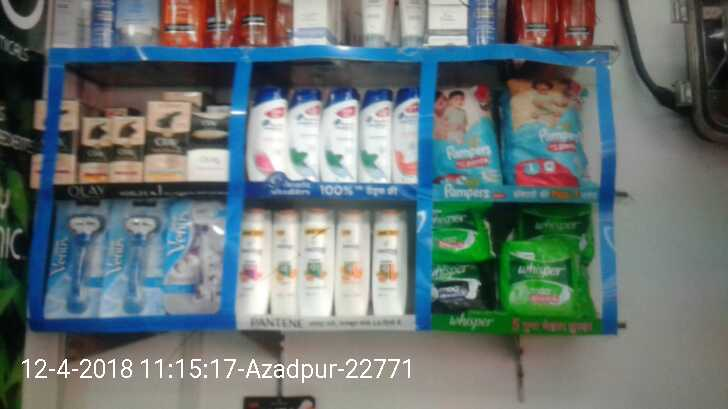venus: (108, 196, 173, 319), (50, 199, 108, 319), (173, 196, 221, 314)
